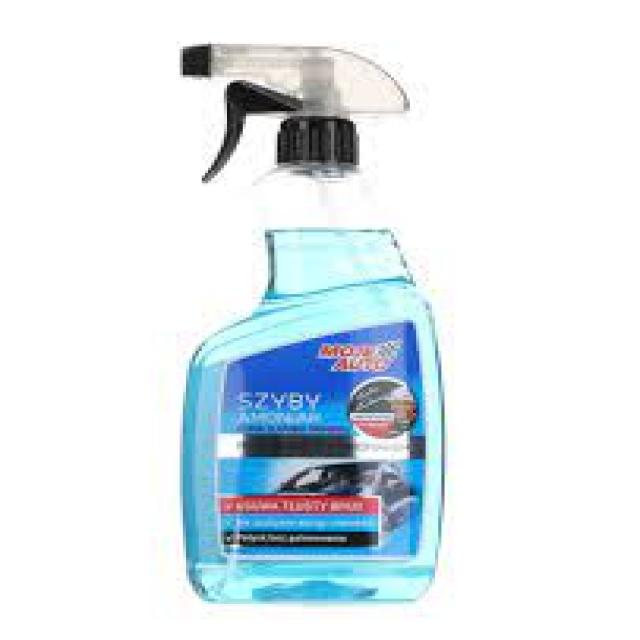winwinshield_washer: (174, 41, 450, 606)
